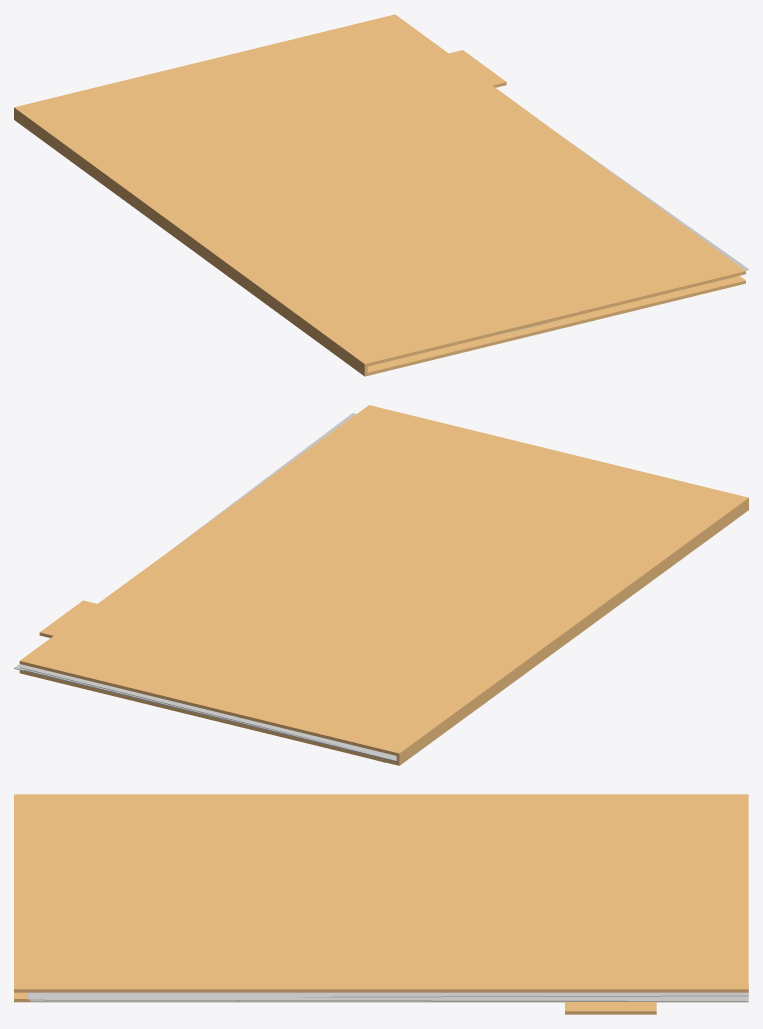
Rendered from Ordner geschlossen.fbx.
3 views of the same model, one above another, from view 1: azimuth 30°, elevation 25°; view 2: azimuth 150°, elevation 25°; view 3: azimuth 270°, elevation 25° (orthographic). The views are drawn at different scales.
Visible parts, largest first — view 1: mesh_1350631206, mesh_2024645854, mesh_2146291506; view 2: mesh_1350631206, mesh_2024645854, mesh_2146291506, group_1815095154, group_919391315; view 3: mesh_1350631206, group_678265516, group_1815095154, mesh_2146291506, mesh_2024645854, group_1129235866.
Part boxes in pixels (x1=…): mesh_1350631206: x1=17, y1=14, x2=745, y2=366; mesh_2024645854: x1=14, y1=106, x2=367, y2=376; mesh_2146291506: x1=367, y1=50, x2=745, y2=375; mesh_1350631206: x1=19, y1=405, x2=745, y2=755; mesh_2024645854: x1=396, y1=497, x2=748, y2=765; mesh_2146291506: x1=19, y1=600, x2=396, y2=764; group_1815095154: x1=20, y1=665, x2=377, y2=754; group_919391315: x1=24, y1=669, x2=396, y2=761; mesh_1350631206: x1=14, y1=796, x2=748, y2=992; group_678265516: x1=28, y1=992, x2=746, y2=1001; group_1815095154: x1=237, y1=984, x2=748, y2=997; mesh_2146291506: x1=14, y1=992, x2=748, y2=1014; mesh_2024645854: x1=14, y1=794, x2=748, y2=795; group_1129235866: x1=30, y1=996, x2=748, y2=1001.
Size of the model in its own units: 333 by 11.95 by 500.
